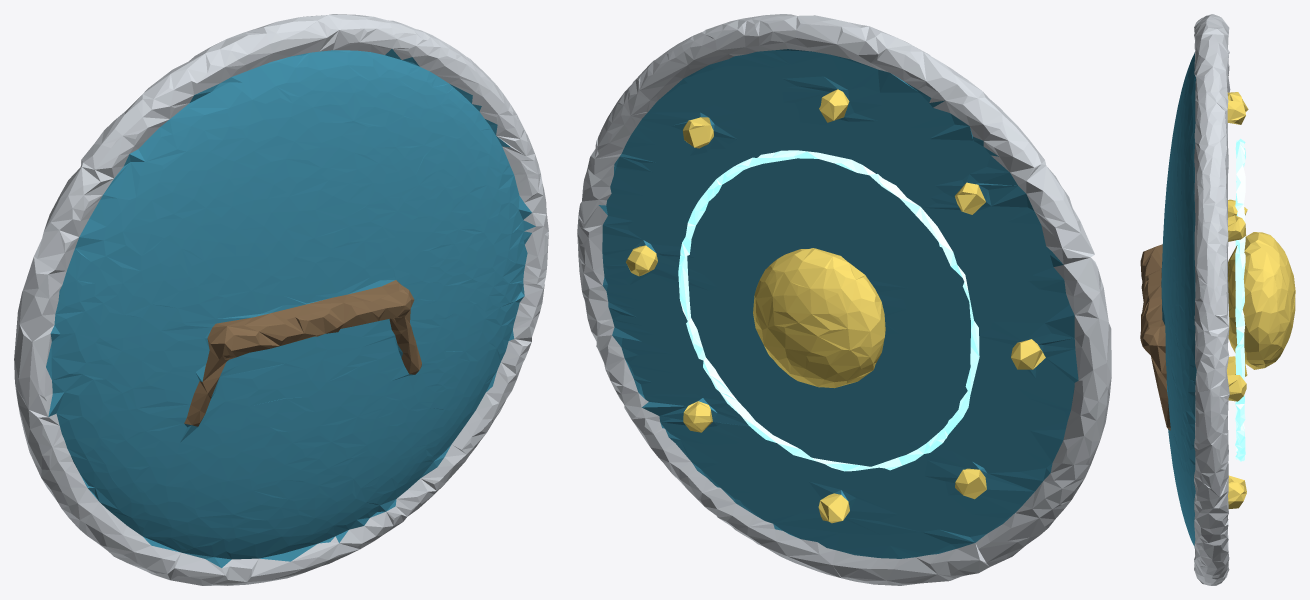
Rendered from shield-blue.glb.
3 renders of one model, left to right at view 1: azimuth 30°, elevation 25°; view 2: azimuth 150°, elevation 25°; view 3: azimuth 270°, elevation 25°, orthographic. The views are drawn at different scales.
Parts seen in each view (by area): view 1: enamel-blue, steel, leather; view 2: enamel-blue, steel, gold, inlay-blue; view 3: steel, enamel-blue, gold, leather, inlay-blue.
Boxes of the visible parts, <box> form: enamel-blue: <box>46,49,535,567</box>; steel: <box>14,14,548,585</box>; leather: <box>184,280,421,426</box>; enamel-blue: <box>599,49,1078,558</box>; steel: <box>577,14,1111,585</box>; gold: <box>626,89,1045,523</box>; inlay-blue: <box>678,150,979,471</box>; steel: <box>1194,14,1230,585</box>; enamel-blue: <box>1161,52,1196,548</box>; gold: <box>1227,92,1295,508</box>; leather: <box>1140,244,1170,430</box>; inlay-blue: <box>1235,138,1245,461</box>.
Size of the model in its own units: 0.4352 by 0.4357 by 0.1184.
